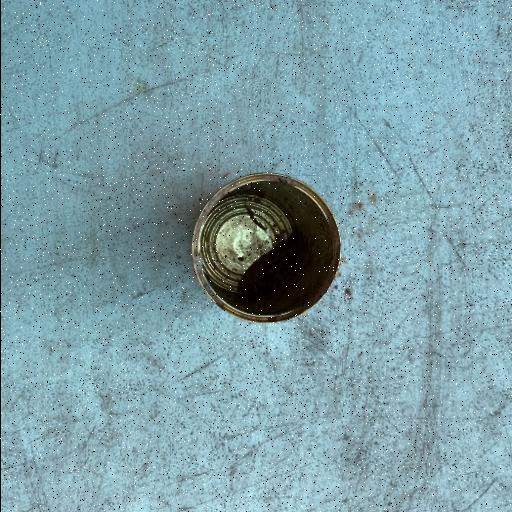Metal: (188, 170, 342, 324)
